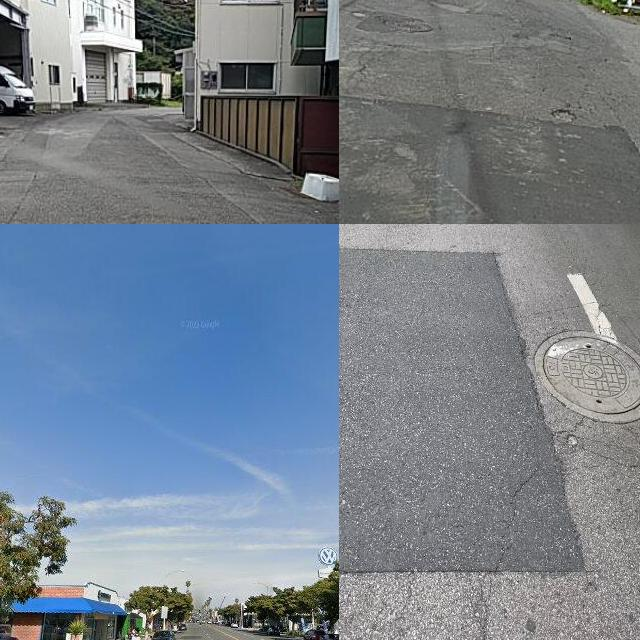Lubang: (531, 331, 640, 420)
Sambungan: (339, 246, 588, 579), (339, 98, 640, 224)
